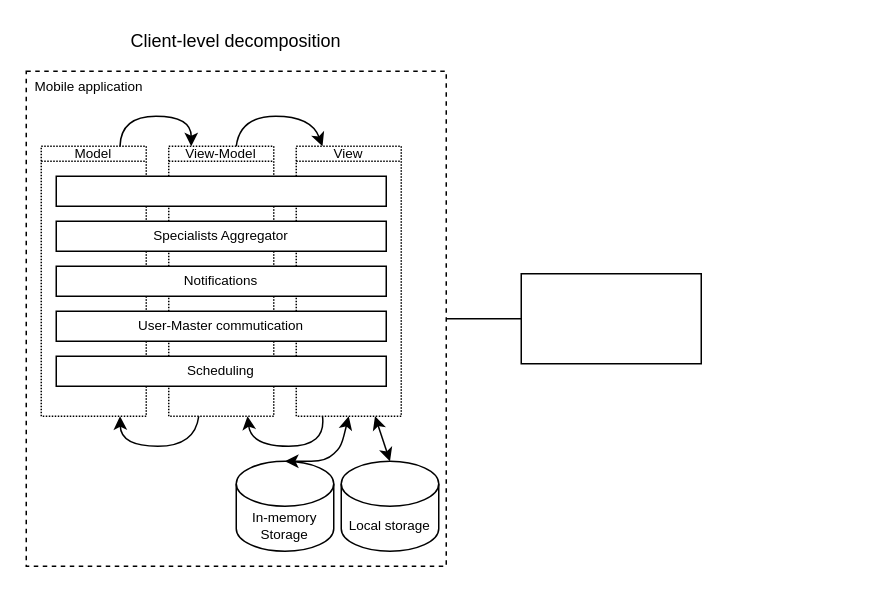
The diagram is 893 pixels wide and 593 high, and some of its shapes have lost their labels. The shapes that lost their labels are listed below. From the top down, each one's centre as x and y in pixels, then its label:
point 220,190: Tasks Aggregator
point 610,318: Web-server
